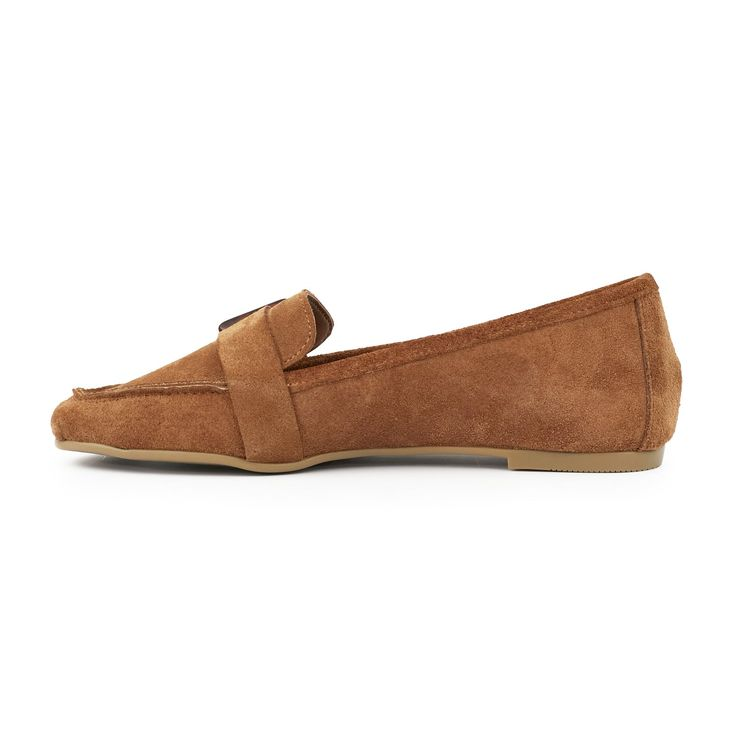gamuza: (51, 273, 682, 463)
